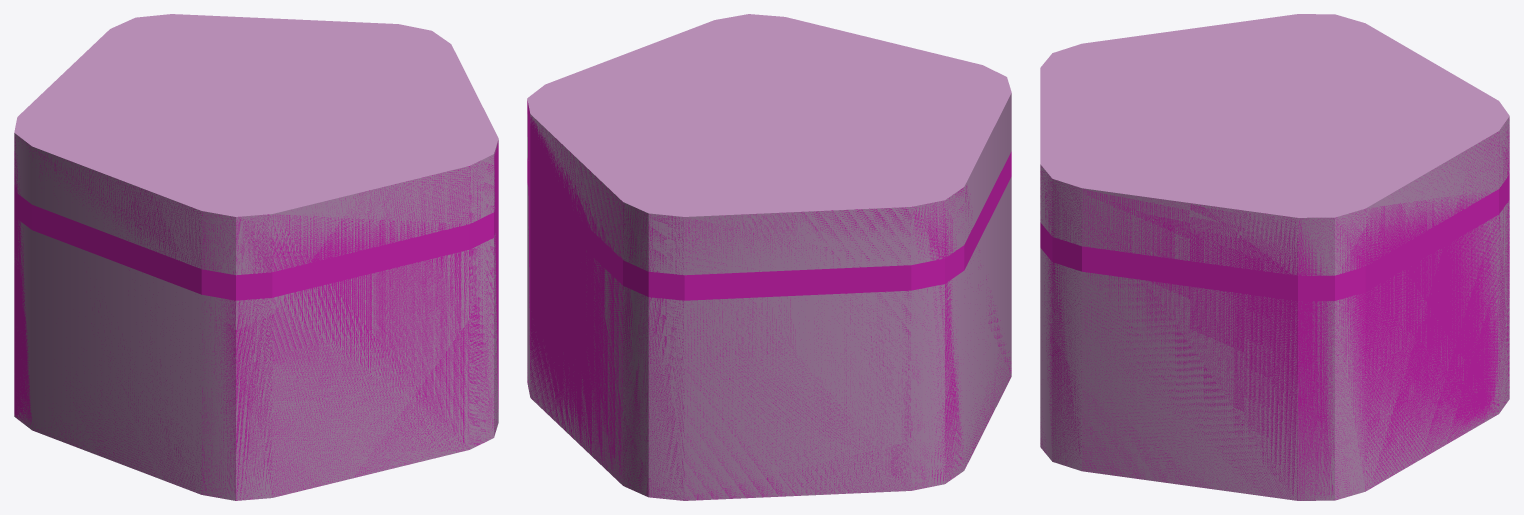
File: building19.fbx
3 views of the same model, side by side, from view 1: azimuth 30°, elevation 25°; view 2: azimuth 150°, elevation 25°; view 3: azimuth 270°, elevation 25° (orthographic).
Parts seen in each view (by area): view 1: building19_MESH, building19_COL; view 2: building19_MESH, building19_COL; view 3: building19_MESH, building19_COL.
Part boxes in pixels (box(x1,y1,x2,y2)): building19_MESH: box(14, 14, 498, 500); building19_COL: box(14, 135, 498, 500); building19_MESH: box(527, 14, 1011, 500); building19_COL: box(527, 100, 1011, 500); building19_MESH: box(1040, 14, 1509, 500); building19_COL: box(1040, 119, 1509, 500).
Bounding box in the file's own units: 1052 × 1081 × 700.
